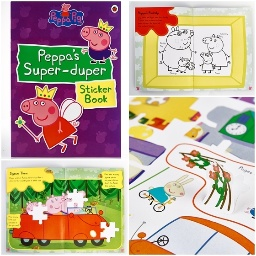Peppa: (15, 85, 83, 156)
